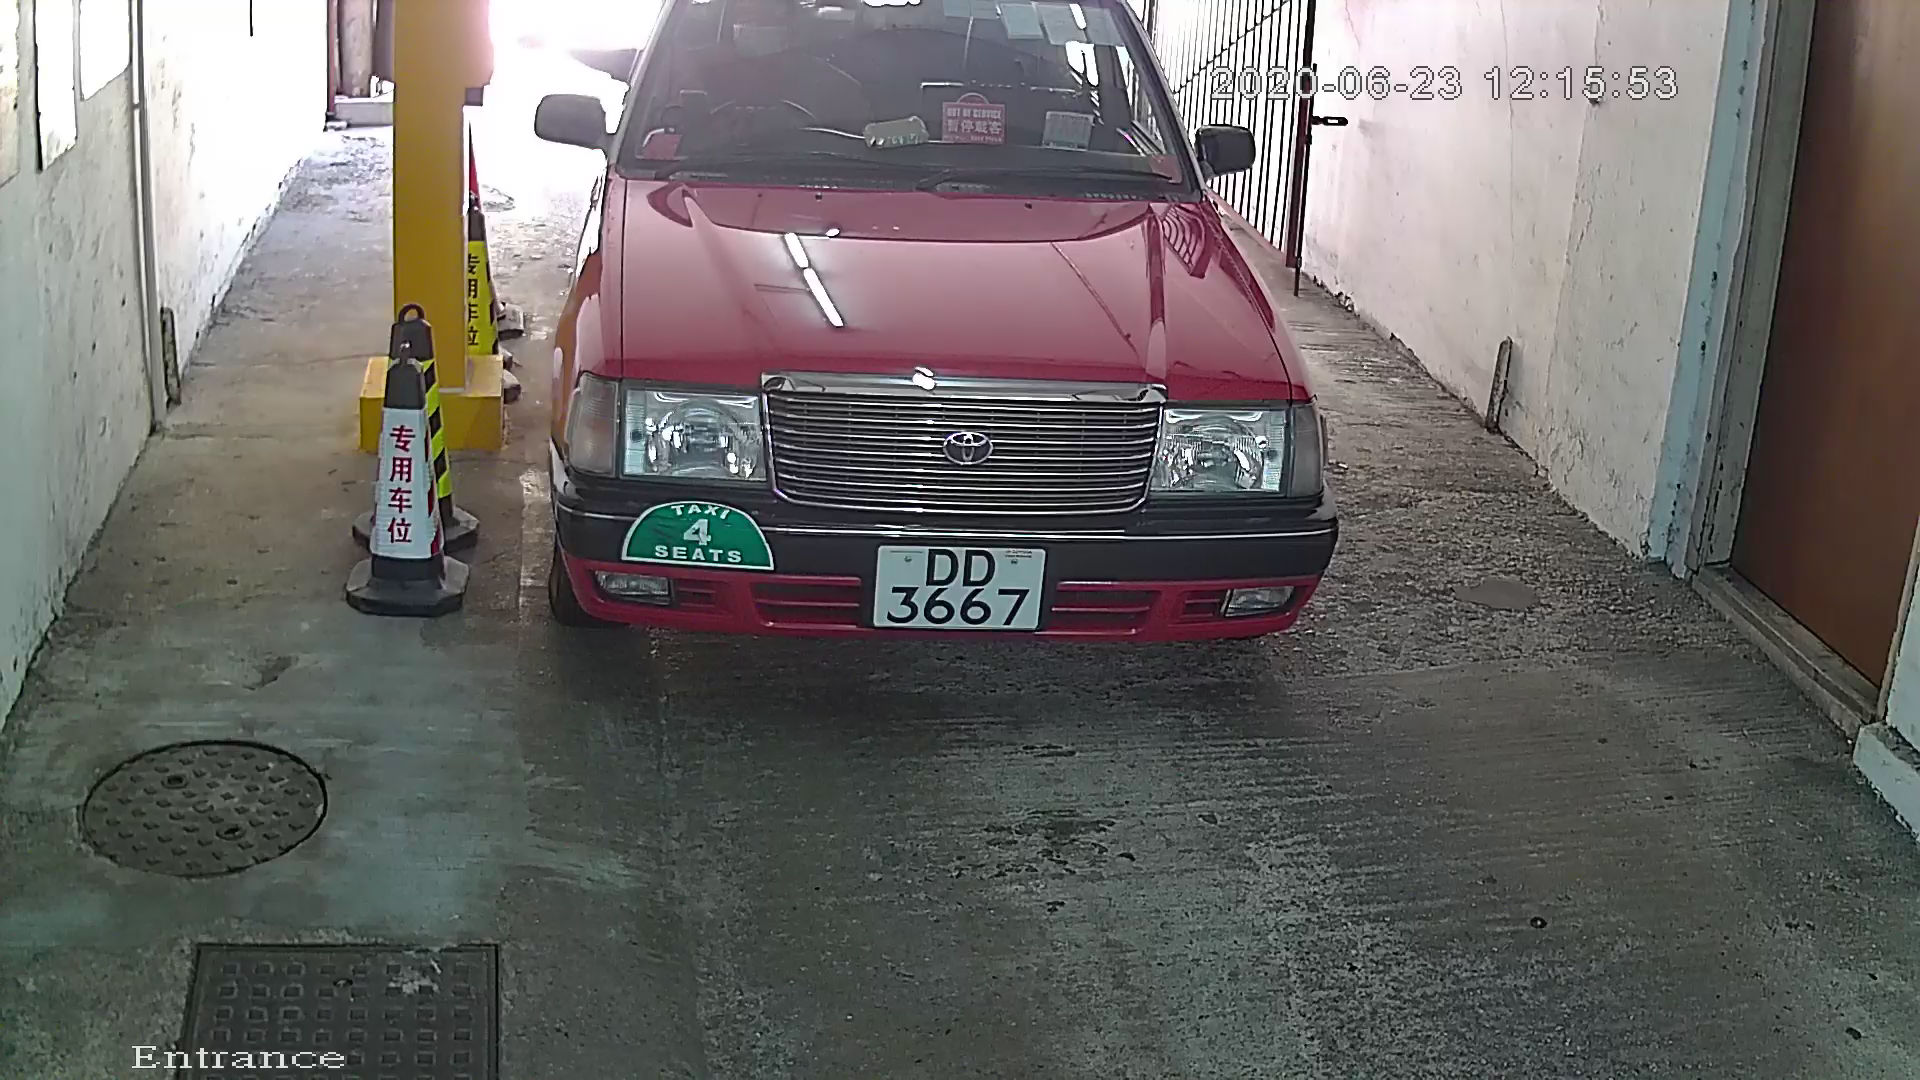taxi: (495, 1, 1381, 715)
taxi_mark: (599, 481, 790, 587)
